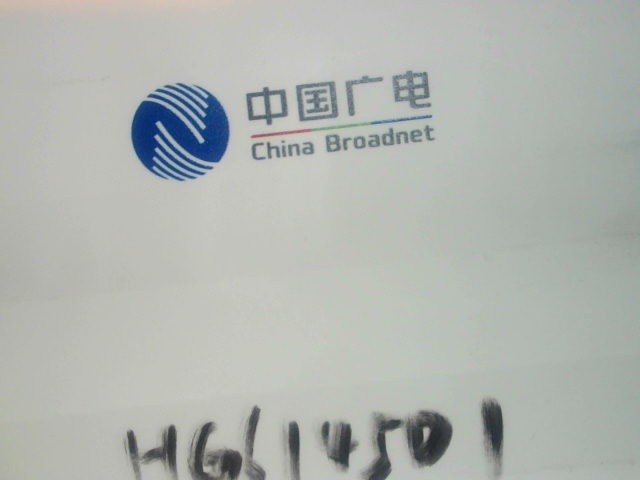AW_ChinaBroadNet: (128, 67, 448, 184)
